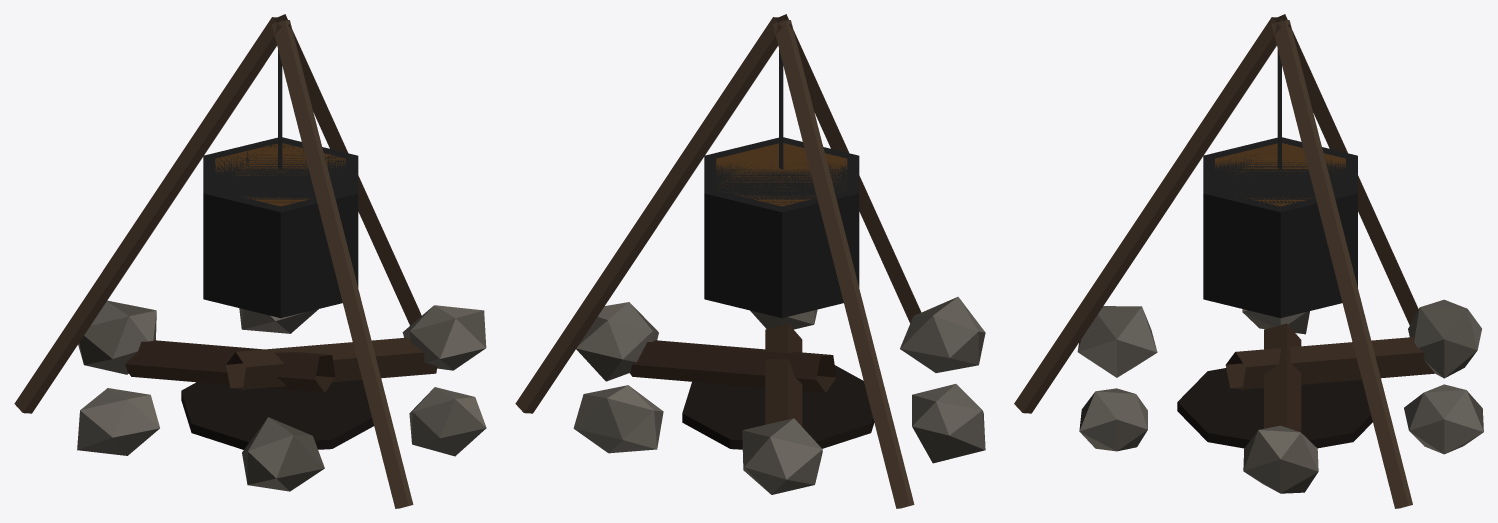
Rendered from fr_fire_lod1.glb.
The picture shows the model from 3 angles, left to right: view 1: azimuth 30°, elevation 25°; view 2: azimuth 150°, elevation 25°; view 3: azimuth 270°, elevation 25°; orthographic projection.
Visible parts, largest first — view 1: fr_fire_lod1; view 2: fr_fire_lod1; view 3: fr_fire_lod1.
Boxes of the visible parts, x1,y1,x2,y2 form: fr_fire_lod1: [14, 14, 486, 508]; fr_fire_lod1: [515, 14, 985, 508]; fr_fire_lod1: [1014, 14, 1483, 508].
Size of the model in its own units: 1.37 by 1.28 by 1.37.
